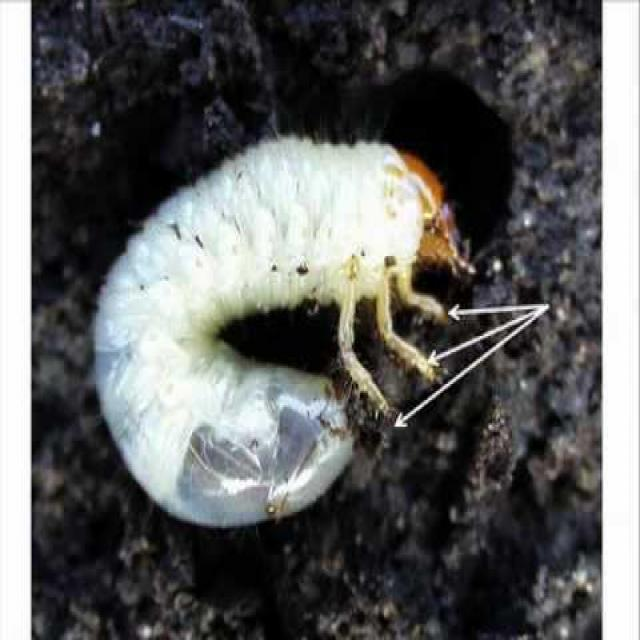Grub-Adult-: (85, 130, 491, 553)
